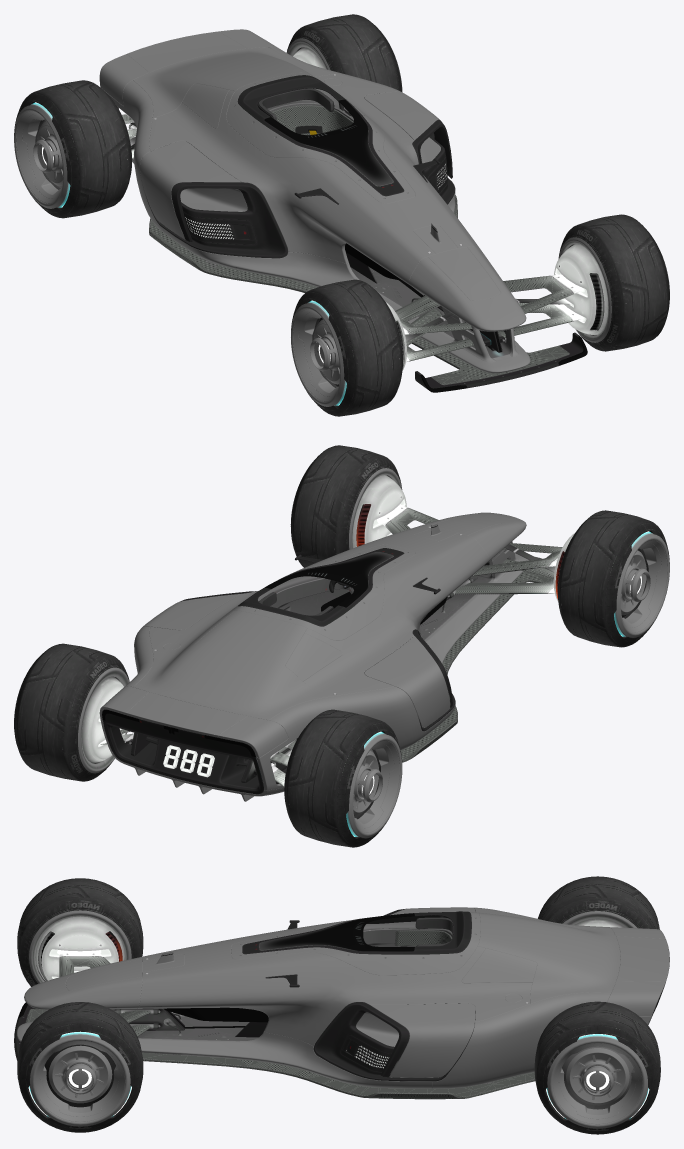
File: trackmania_2020_carsport.glb
The picture shows the model from 3 angles, top to bottom: view 1: azimuth 30°, elevation 25°; view 2: azimuth 150°, elevation 25°; view 3: azimuth 270°, elevation 25°; orthographic projection. The views are drawn at different scales.
Parts seen in each view (by area): view 1: Skin_01, Details_01, Wheels_01, Glass_01; view 2: Skin_01, Wheels_01, Details_01, Glass_01; view 3: Skin_01, Details_01, Wheels_01, Glass_01.
Part boxes in pixels (<box>): Skin_01: <box>14,29,669,406</box>; Details_01: <box>31,38,611,405</box>; Wheels_01: <box>14,14,669,416</box>; Glass_01: <box>264,99,587,392</box>; Skin_01: <box>14,481,669,838</box>; Wheels_01: <box>14,445,669,847</box>; Details_01: <box>78,468,652,836</box>; Glass_01: <box>102,525,446,756</box>; Skin_01: <box>16,907,669,1128</box>; Details_01: <box>14,908,660,1119</box>; Wheels_01: <box>17,876,660,1134</box>; Glass_01: <box>17,913,664,1028</box>.
Bounding box in the file's own units: 2.14 × 0.8822 × 3.78.
4 materials, 4 textured.
